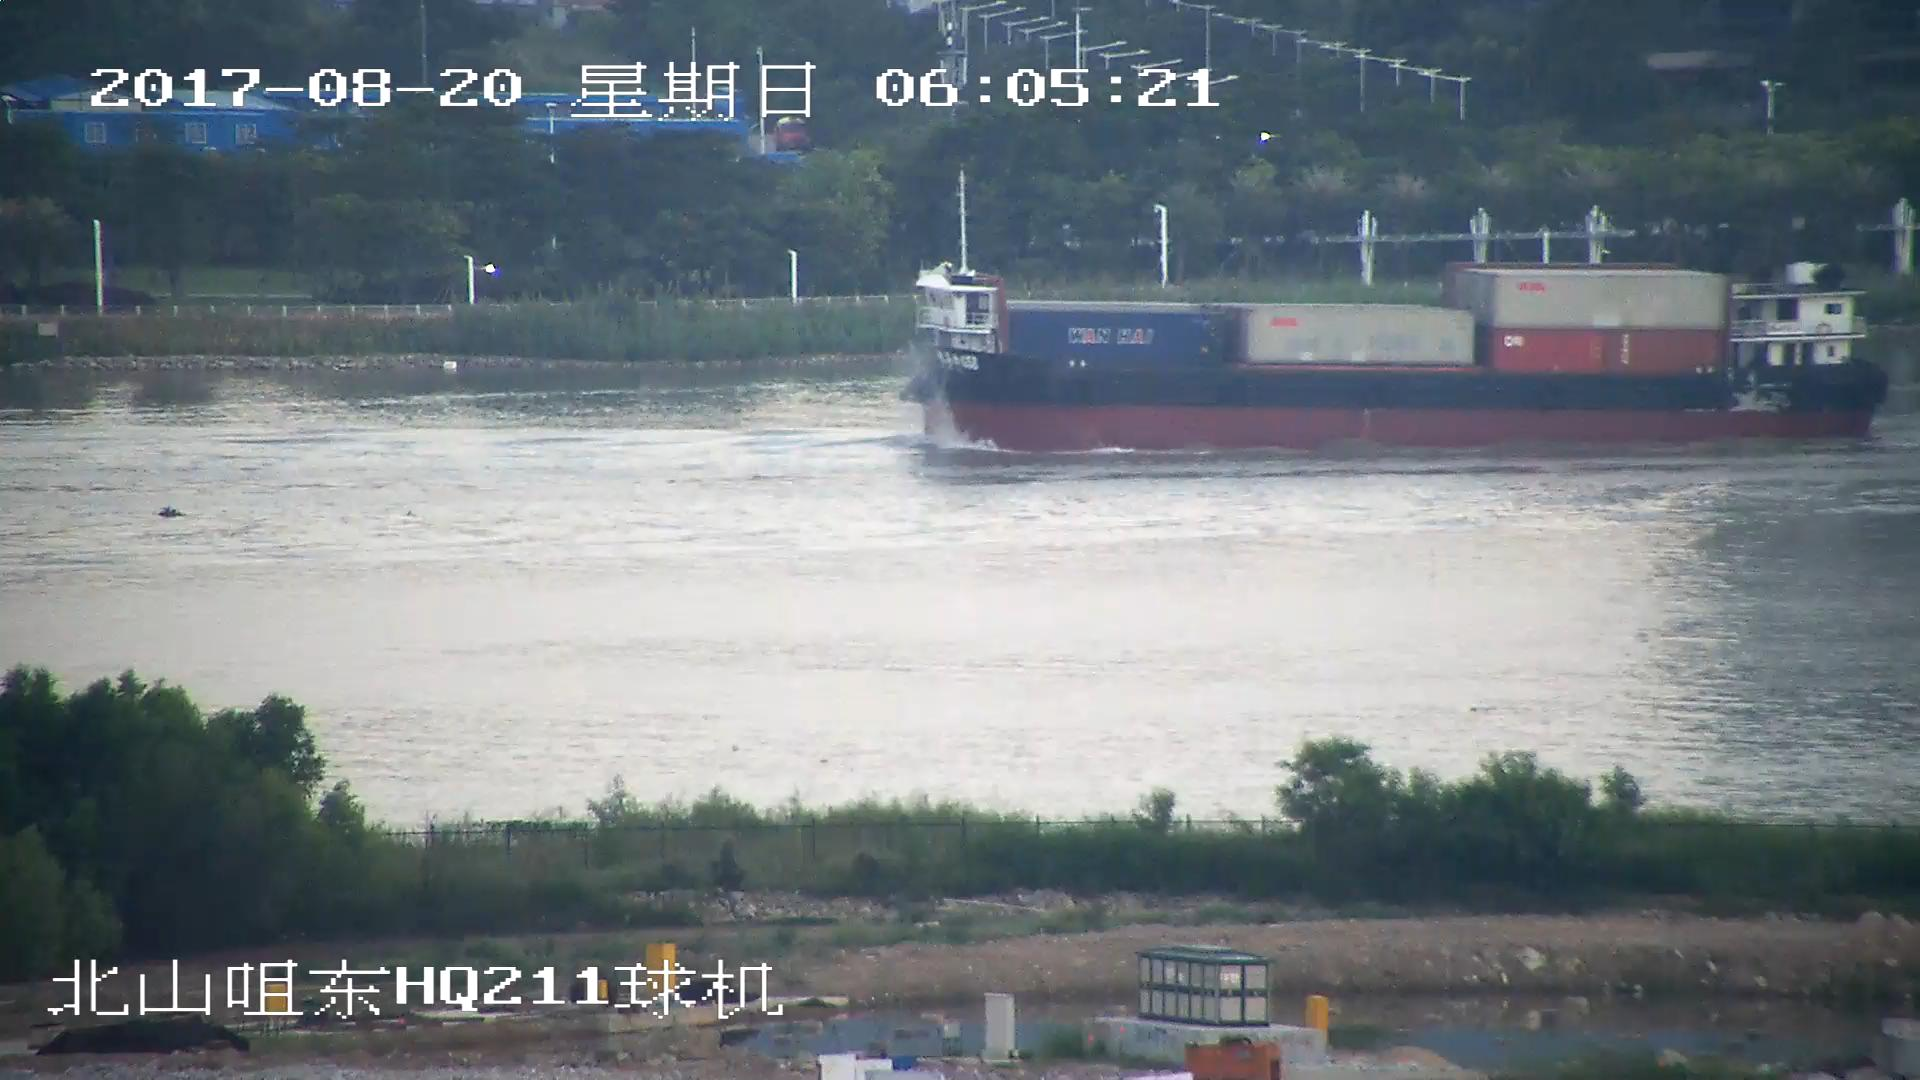container ship: (895, 175, 1891, 456)
